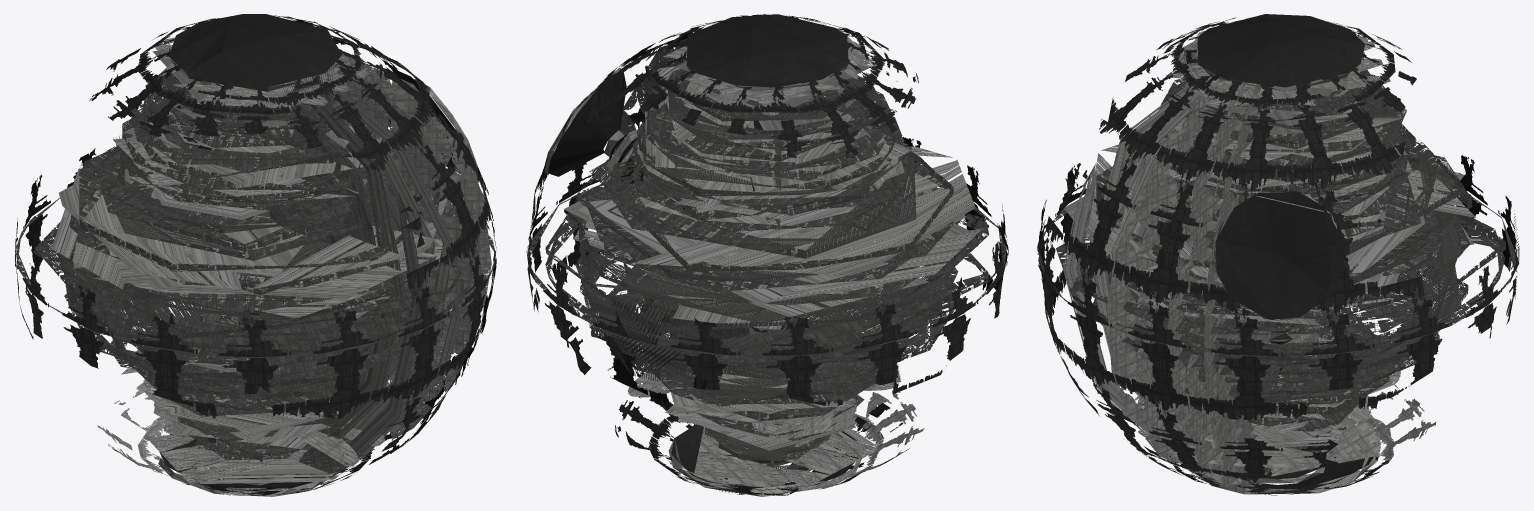
The picture shows the model from 3 angles, left to right: view 1: azimuth 30°, elevation 25°; view 2: azimuth 150°, elevation 25°; view 3: azimuth 270°, elevation 25°; orthographic projection.
Parts seen in each view (by area): view 1: Object12291_05 - Defaultasdasd_0, Object12290_03 - Defaultasdsadasdassda_0, Object12289_06 - Defaultasdsdaasdassadasdassd_0, Object12294_06 - Default_0, Object12287_03 - Defaultasdsad_0, Object12296_06 - Defaultasdsda_0, Object12295_06 - Defaultasdsdaasdassad_0, Object12293_03 - Defaultasdsadasd_0, Object12297_06 - Defaultasdsdaasdassadasd_0; view 2: Object12291_05 - Defaultasdasd_0, Object12290_03 - Defaultasdsadasdassda_0, Object12287_03 - Defaultasdsad_0, Object12294_06 - Default_0, Object12296_06 - Defaultasdsda_0, Object12295_06 - Defaultasdsdaasdassad_0, Object12293_03 - Defaultasdsadasd_0, Object12289_06 - Defaultasdsdaasdassadasdassd_0, Object12297_06 - Defaultasdsdaasdassadasd_0; view 3: Object12294_06 - Default_0, Object12291_05 - Defaultasdasd_0, Object12289_06 - Defaultasdsdaasdassadasdassd_0, Object12287_03 - Defaultasdsad_0, Object12290_03 - Defaultasdsadasdassda_0, Object12295_06 - Defaultasdsdaasdassad_0, Object12293_03 - Defaultasdsadasd_0, Object12296_06 - Defaultasdsda_0, Object12297_06 - Defaultasdsdaasdassadasd_0.
Part boxes in pixels (x1,y1,x2,y2): Object12291_05 - Defaultasdasd_0: [16, 73, 495, 478]; Object12290_03 - Defaultasdsadasdassda_0: [51, 37, 455, 484]; Object12289_06 - Defaultasdsdaasdassadasdassd_0: [179, 54, 491, 474]; Object12294_06 - Default_0: [15, 21, 496, 495]; Object12287_03 - Defaultasdsad_0: [159, 14, 462, 490]; Object12296_06 - Defaultasdsda_0: [89, 15, 354, 495]; Object12295_06 - Defaultasdsdaasdassad_0: [15, 18, 496, 495]; Object12293_03 - Defaultasdsadasd_0: [158, 46, 477, 496]; Object12297_06 - Defaultasdsdaasdassadasd_0: [97, 15, 351, 495]; Object12291_05 - Defaultasdasd_0: [528, 69, 1006, 474]; Object12290_03 - Defaultasdsadasdassda_0: [564, 29, 982, 487]; Object12287_03 - Defaultasdsad_0: [548, 14, 858, 490]; Object12294_06 - Default_0: [526, 20, 1008, 406]; Object12296_06 - Defaultasdsda_0: [609, 15, 918, 495]; Object12295_06 - Defaultasdsdaasdassad_0: [528, 14, 1008, 494]; Object12293_03 - Defaultasdsadasd_0: [544, 30, 861, 496]; Object12289_06 - Defaultasdsdaasdassadasdassd_0: [613, 38, 801, 469]; Object12297_06 - Defaultasdsdaasdassadasd_0: [667, 386, 924, 494]; Object12294_06 - Default_0: [1037, 17, 1519, 495]; Object12291_05 - Defaultasdasd_0: [1039, 69, 1517, 471]; Object12289_06 - Defaultasdsdaasdassadasdassd_0: [1063, 79, 1338, 486]; Object12287_03 - Defaultasdsad_0: [1197, 14, 1373, 489]; Object12290_03 - Defaultasdsadasdassda_0: [1064, 22, 1475, 484]; Object12295_06 - Defaultasdsdaasdassad_0: [1037, 18, 1516, 488]; Object12293_03 - Defaultasdsadasd_0: [1193, 56, 1376, 494]; Object12296_06 - Defaultasdsda_0: [1163, 21, 1516, 324]; Object12297_06 - Defaultasdsdaasdassadasd_0: [1134, 17, 1511, 485].
Bounding box in the file's own units: 746 × 743 × 744.
Materials: 9 (9 with a texture image).
